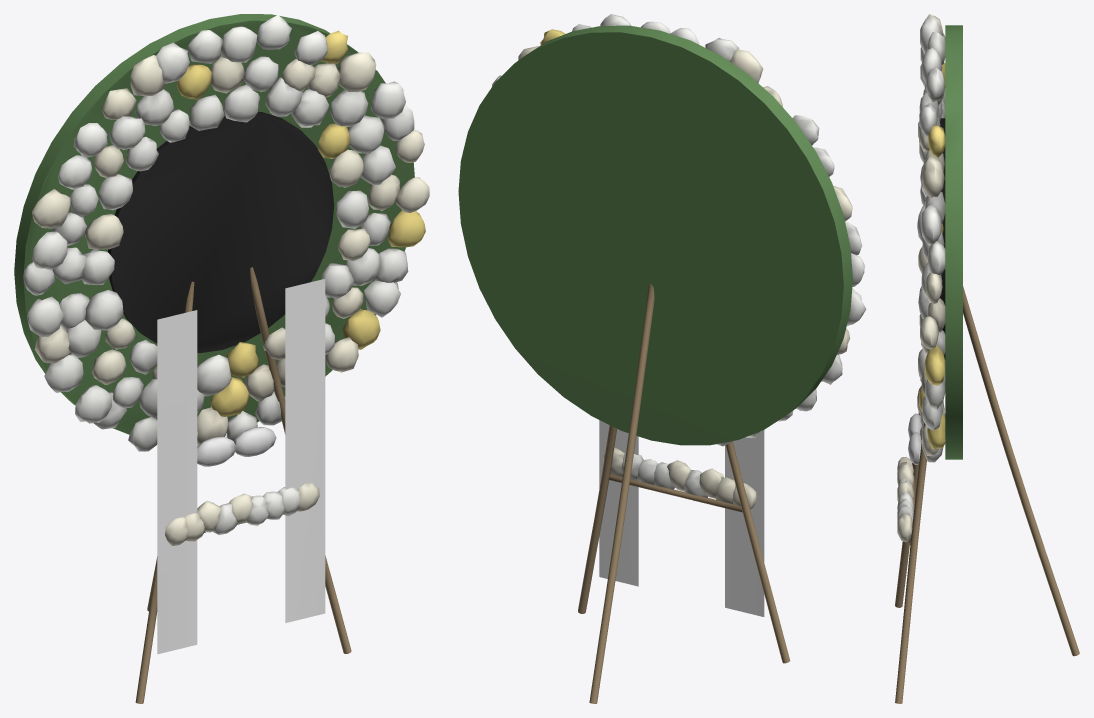
Rendered from pr_wreath_w.glb.
3 views of the same model, side by side, from view 1: azimuth 30°, elevation 25°; view 2: azimuth 150°, elevation 25°; view 3: azimuth 270°, elevation 25° (orthographic). The views are drawn at different scales.
Visible parts, largest first — view 1: body, ribbon_L, ribbon_R; view 2: body, ribbon_L, ribbon_R; view 3: body.
Part boxes in pixels (<box>): body: <box>14,14,429,703</box>; ribbon_L: <box>157,310,197,654</box>; ribbon_R: <box>285,279,325,622</box>; body: <box>458,14,866,703</box>; ribbon_L: <box>725,430,764,616</box>; ribbon_R: <box>599,420,638,586</box>; body: <box>895,14,1079,703</box>.
Size of the model in its own units: 2.02 by 3.05 by 0.8339.
